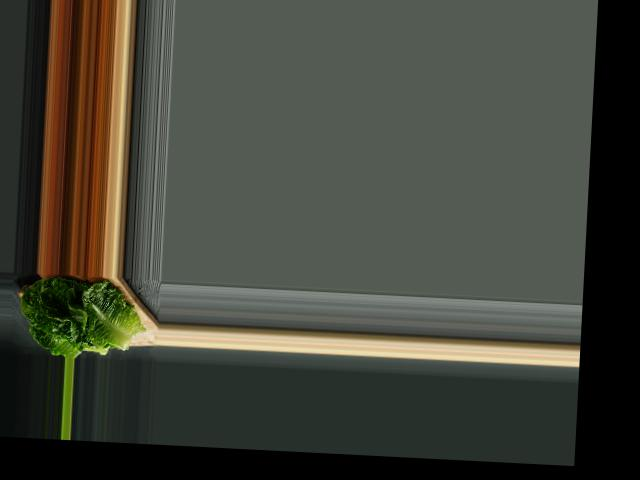lettuce: (14, 271, 143, 360)
